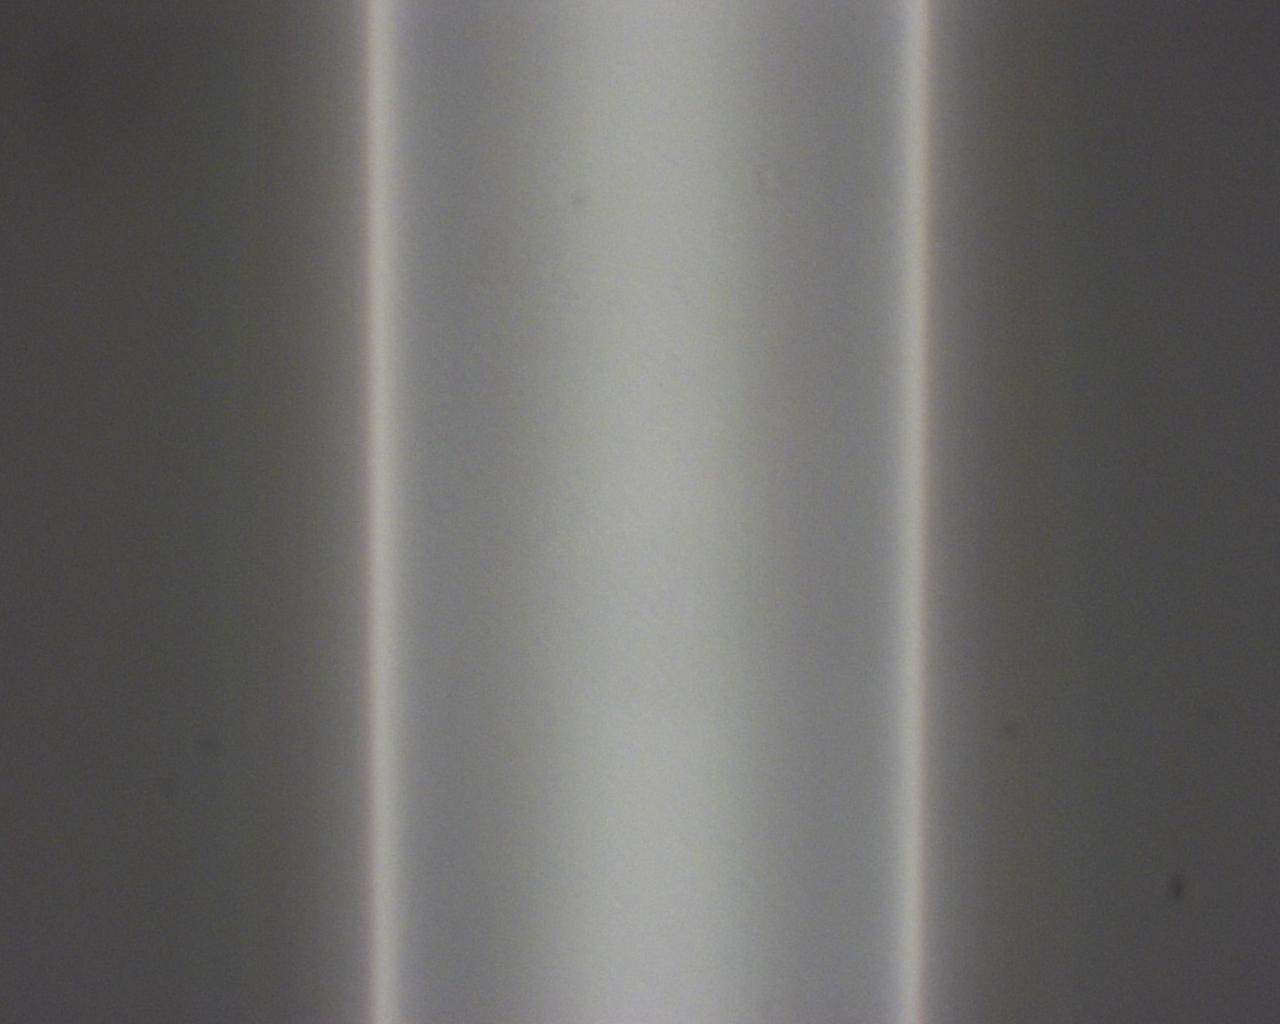fiber: (366, 0, 934, 1024)
